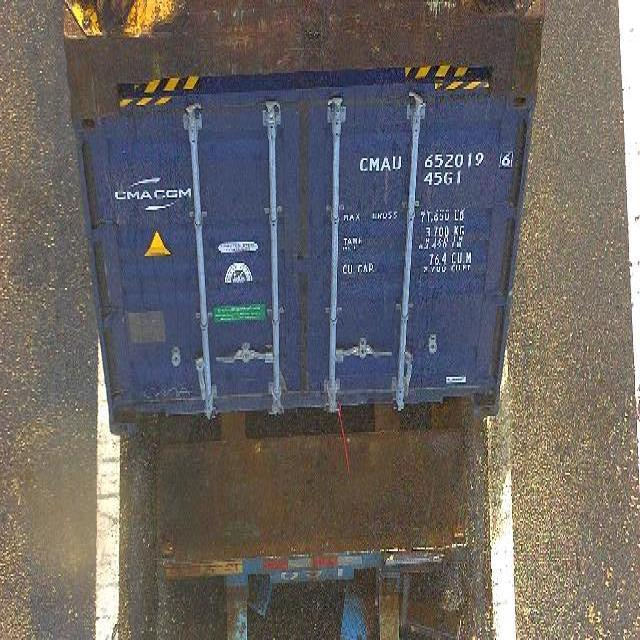ISO: (426, 174, 464, 194)
container_number: (361, 154, 514, 174)
